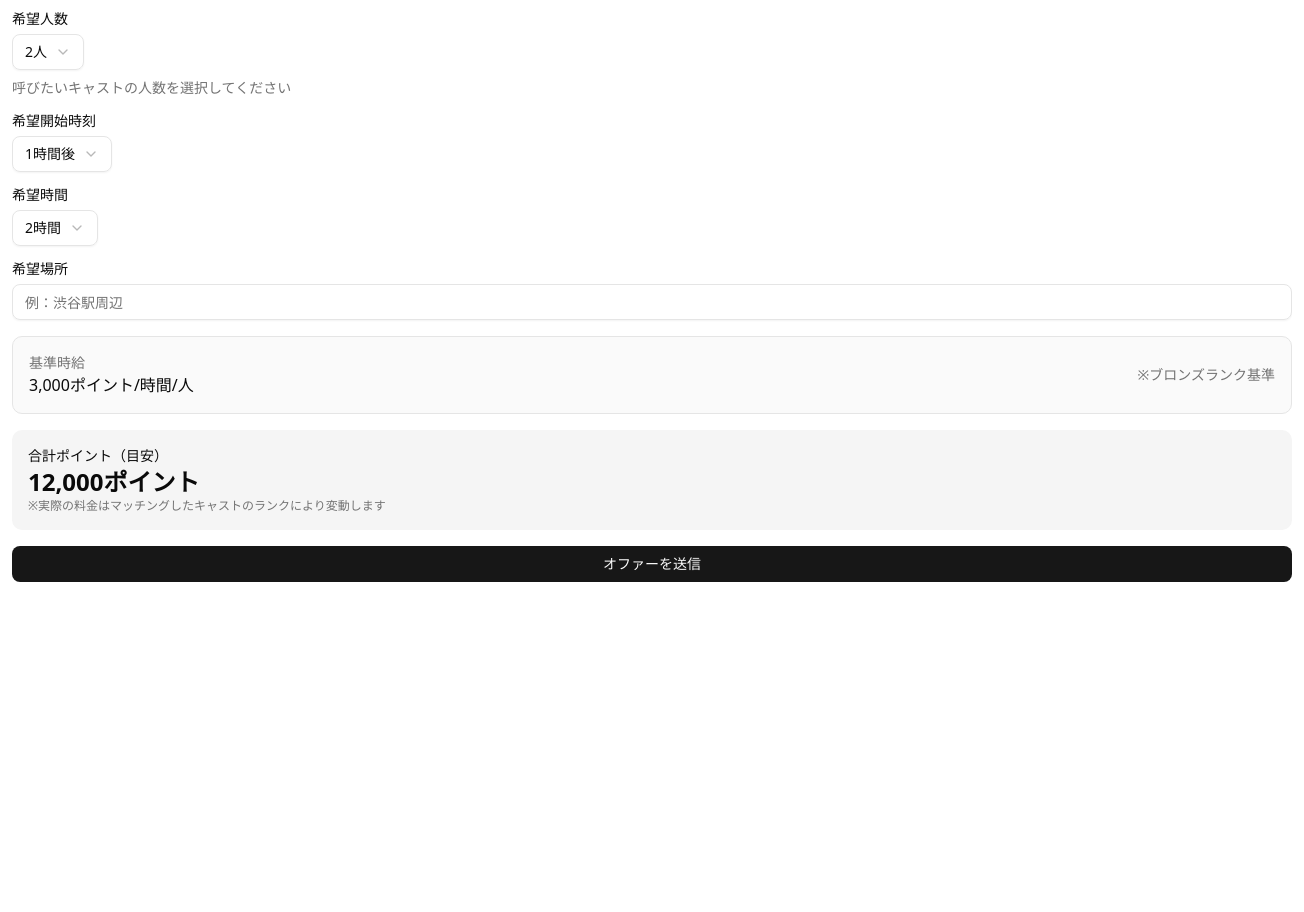
Test case: GroupMatchingOfferForm › 開始時刻選択 › カスタム日時選択時に日時入力フィールドが表示される
Click the dropdown labelled "1時間後" at [62, 154], box [12, 136, 112, 172]
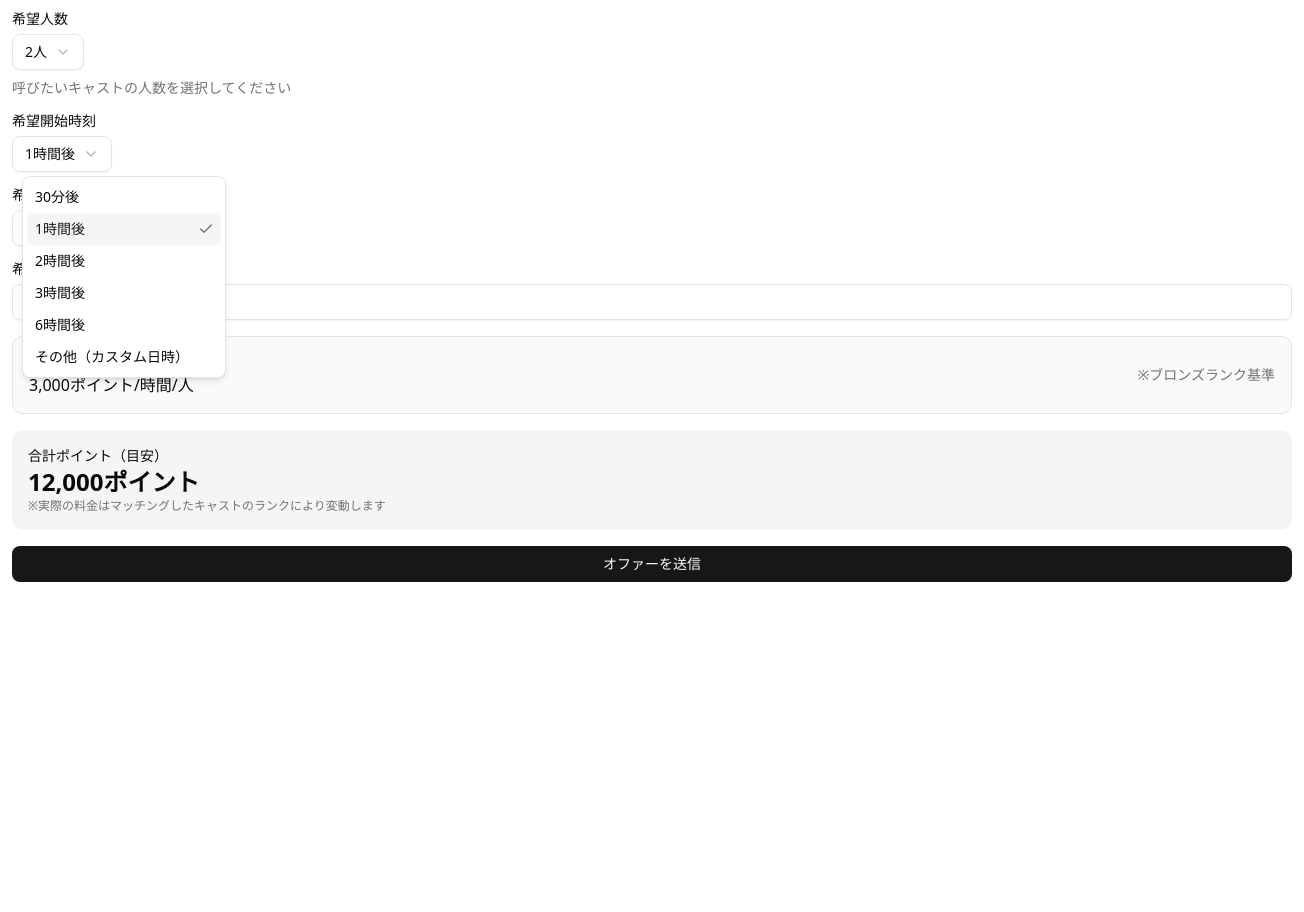
「その他（カスタム日時）」を選択
Click the option "その他（カスタム日時）" at [112, 356], box [35, 347, 189, 366]
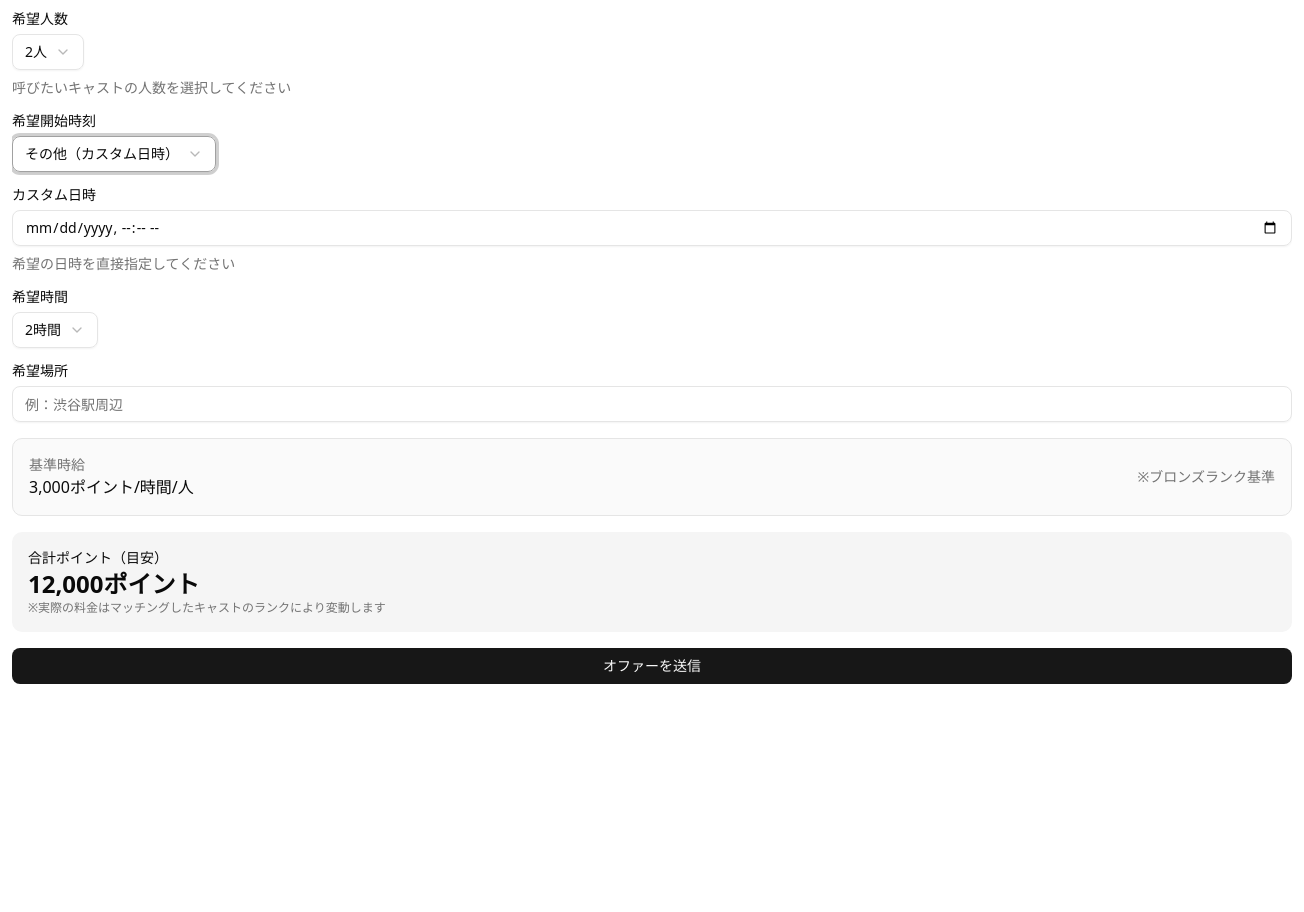
Check: the field labelled "カスタム日時" is shown, box [12, 210, 1292, 246]
